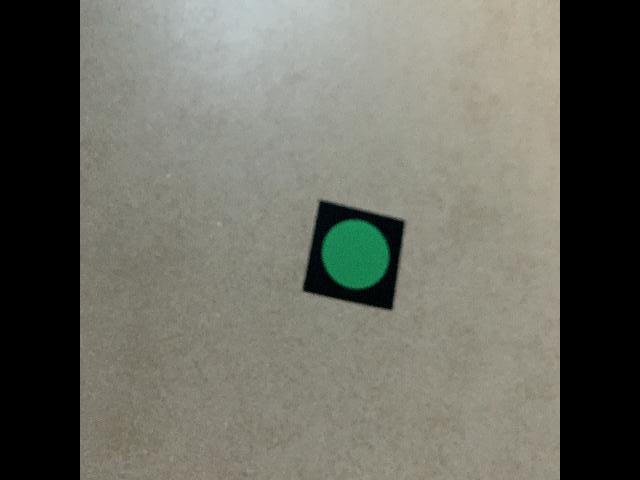go: (301, 197, 407, 314)
